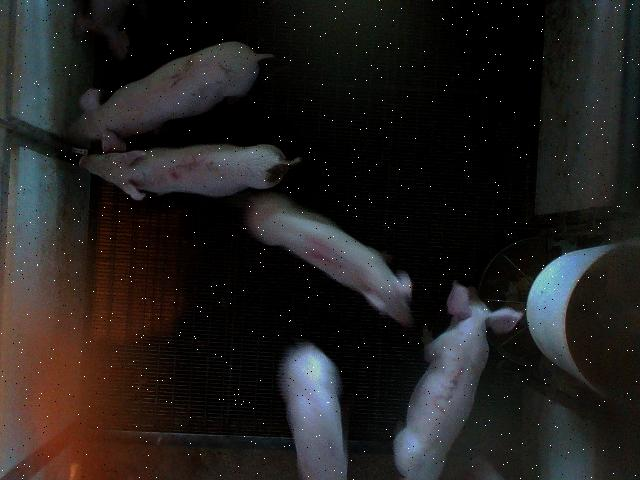pig-3: (394, 284, 520, 479)
pig-4: (244, 191, 414, 327)
pig-5: (79, 144, 301, 201)
